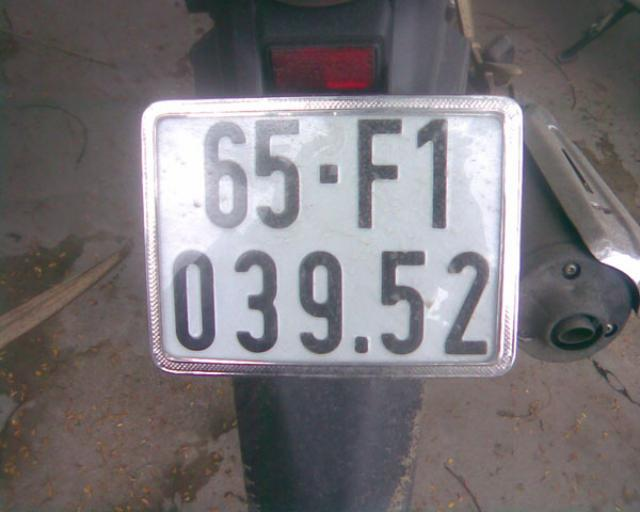plate: (148, 105, 518, 371)
